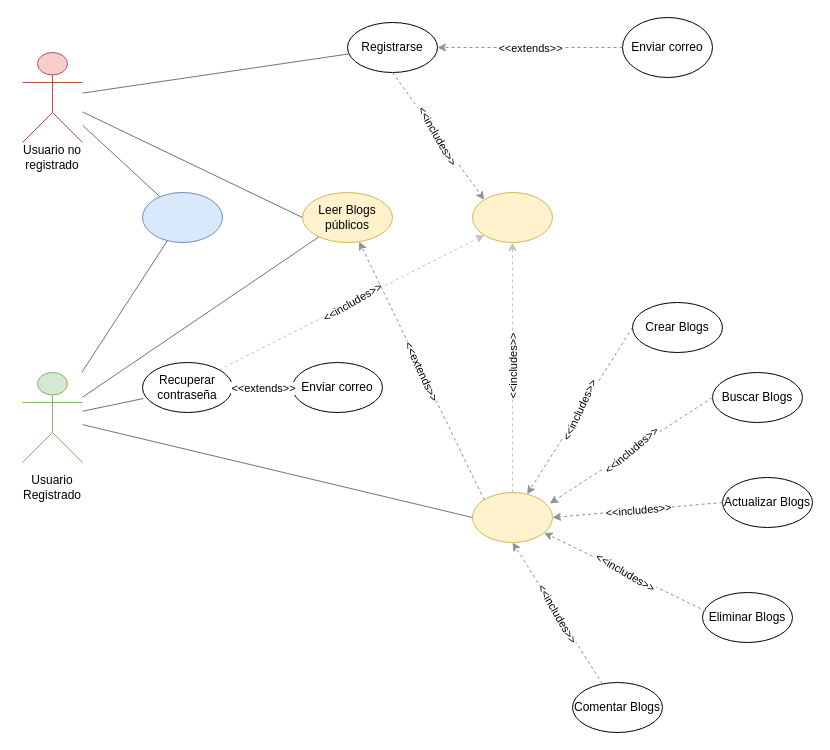
The diagram is 830 pixels wide and 750 high, and some of its shapes have lost their labels. The shapes that lost their labels are listed below. From the top down, each one's centre as x and y in pixels, then its label:
At [182,217]: "Ver pagina Principal".
At [512,217]: "Validar datos".
At [512,517]: "Iniciar Sesión".
